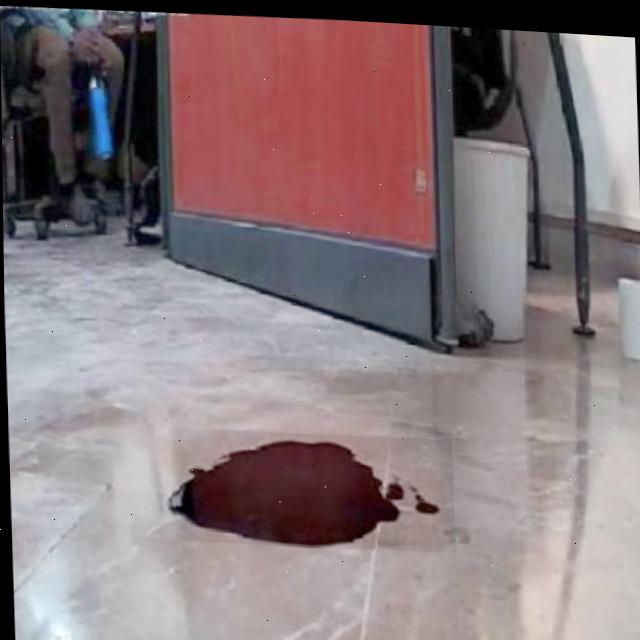spillage: (175, 431, 452, 541)
